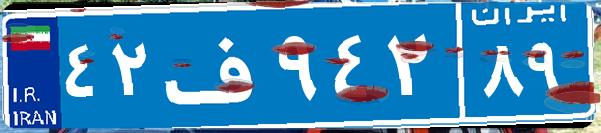2: (385, 28, 445, 110), (110, 28, 158, 105)
4: (330, 28, 385, 110), (57, 26, 110, 107)
8: (475, 38, 525, 113)
9: (273, 28, 330, 110), (525, 38, 570, 115)
ف: (158, 15, 273, 115)
